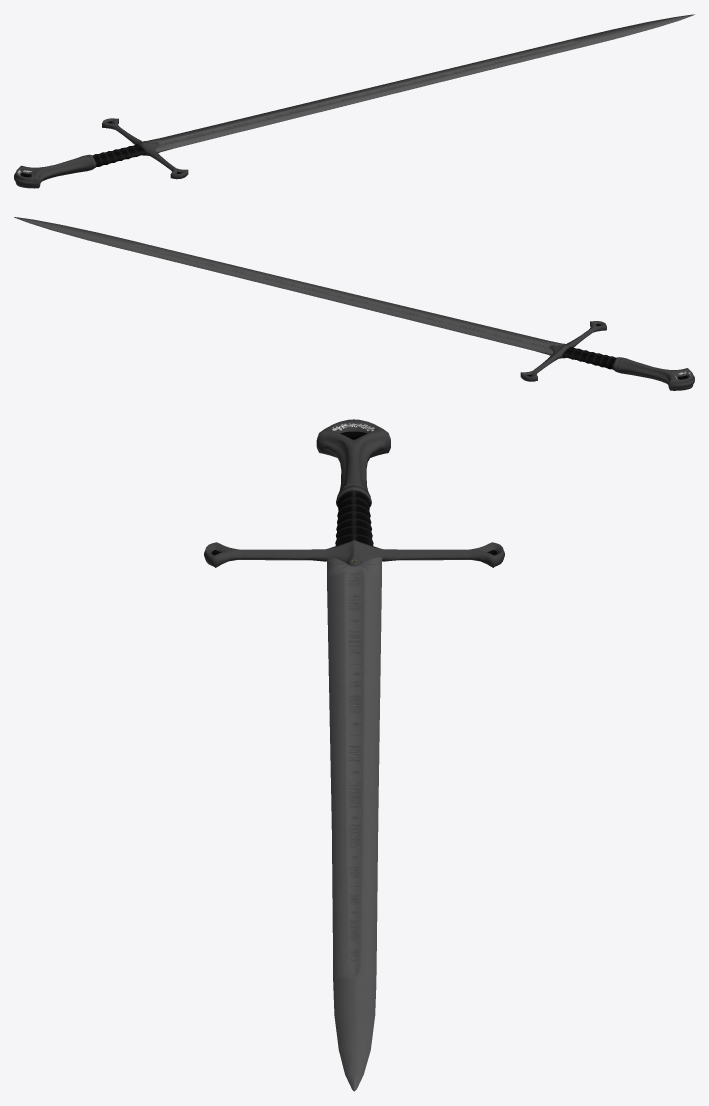
File: anduril_long_sword_lotr_-_pbr_low_poly_model.glb
3 views of the same model, one above another, from view 1: azimuth 30°, elevation 25°; view 2: azimuth 150°, elevation 25°; view 3: azimuth 270°, elevation 25° (orthographic). The views are drawn at different scales.
Visible parts, largest first — view 1: SM_AndurilLongSword; view 2: SM_AndurilLongSword; view 3: SM_AndurilLongSword.
Part boxes in pixels (x1,y1,x2,y2): SM_AndurilLongSword: [14, 14, 694, 188]; SM_AndurilLongSword: [14, 217, 694, 390]; SM_AndurilLongSword: [204, 419, 504, 1091].
Bounding box in the file's own units: 1.37 × 0.0275 × 0.2638.
1 material, 1 textured.
